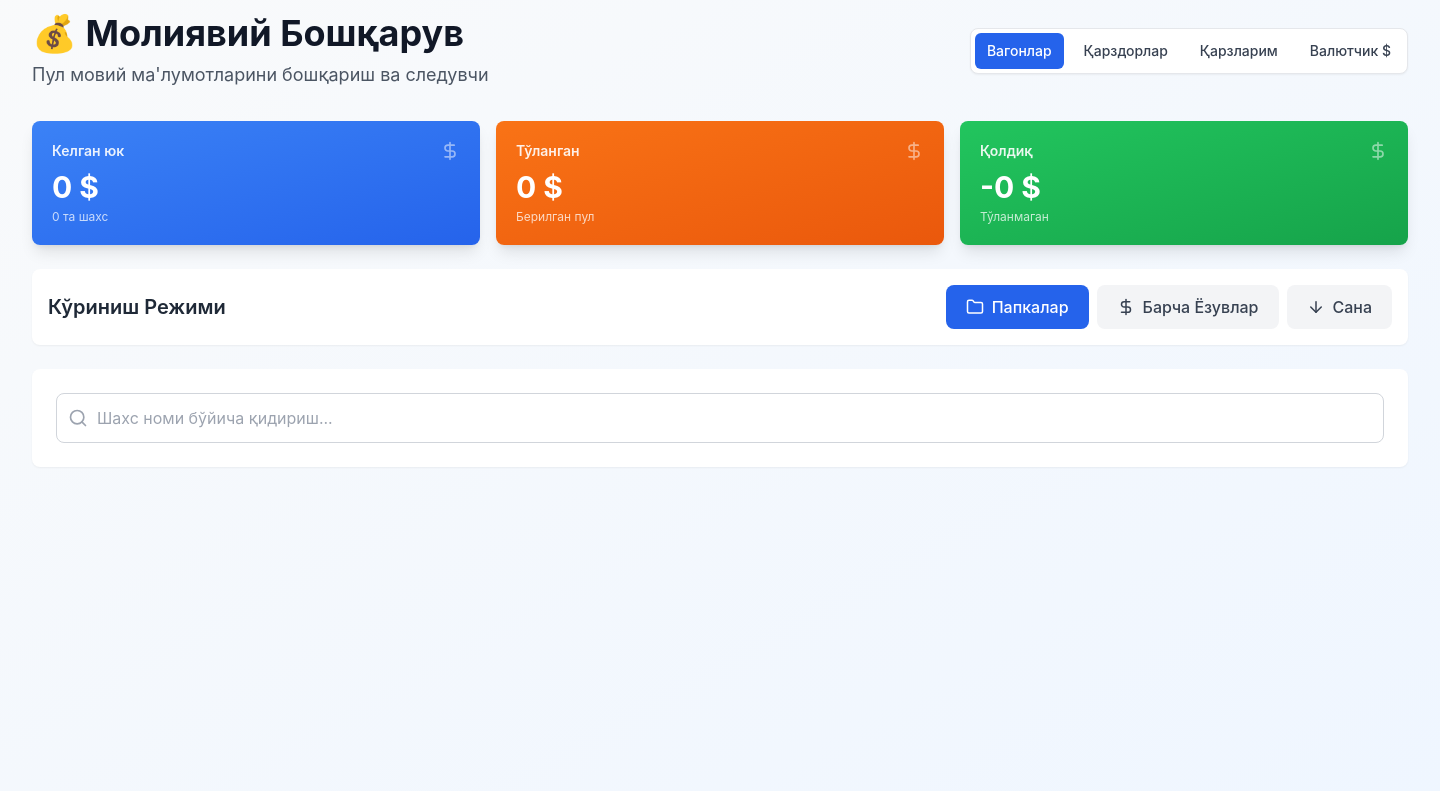
Test: Moliya page › Шухрат: adding a debt lets you pick took / gave
Later steps or results of the test are not shown.
Check: the button "Вагонлар" is shown, box [975,33,1064,69]
What coordinates should you click on to do the following:
click the button "Қарздорлар"
I would click on:
 (1126, 51)
Its box is [1072,33,1180,69].
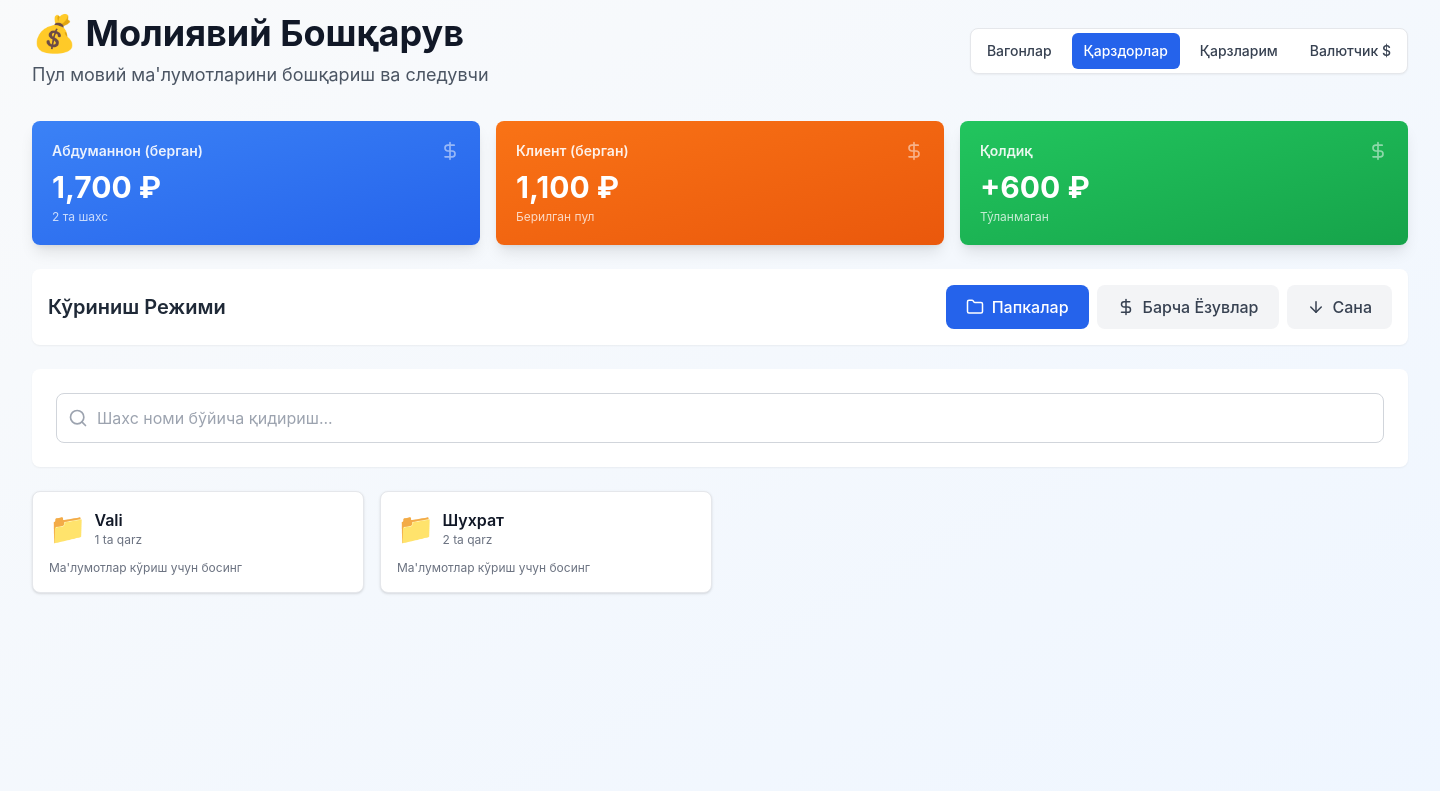
What coordinates should you click on to do the following:
click the heading "Шухрат"
I would click on:
 (473, 520)
Its box is [442,510,504,530].
(page scrolled)
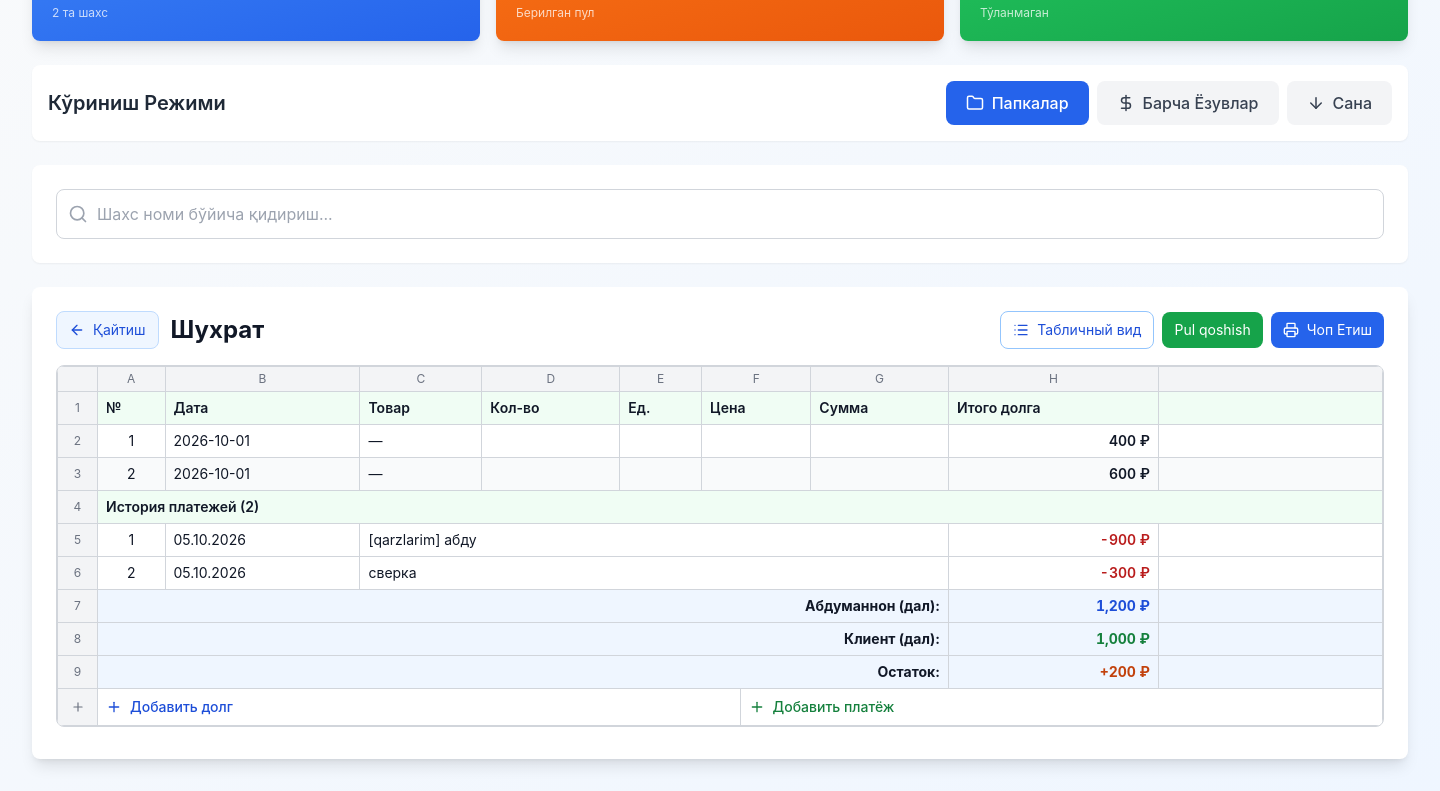
What coordinates should you click on to do the following:
click the button "Добавить долг"
I would click on:
 (181, 706)
Its box is [98,689,740,725].
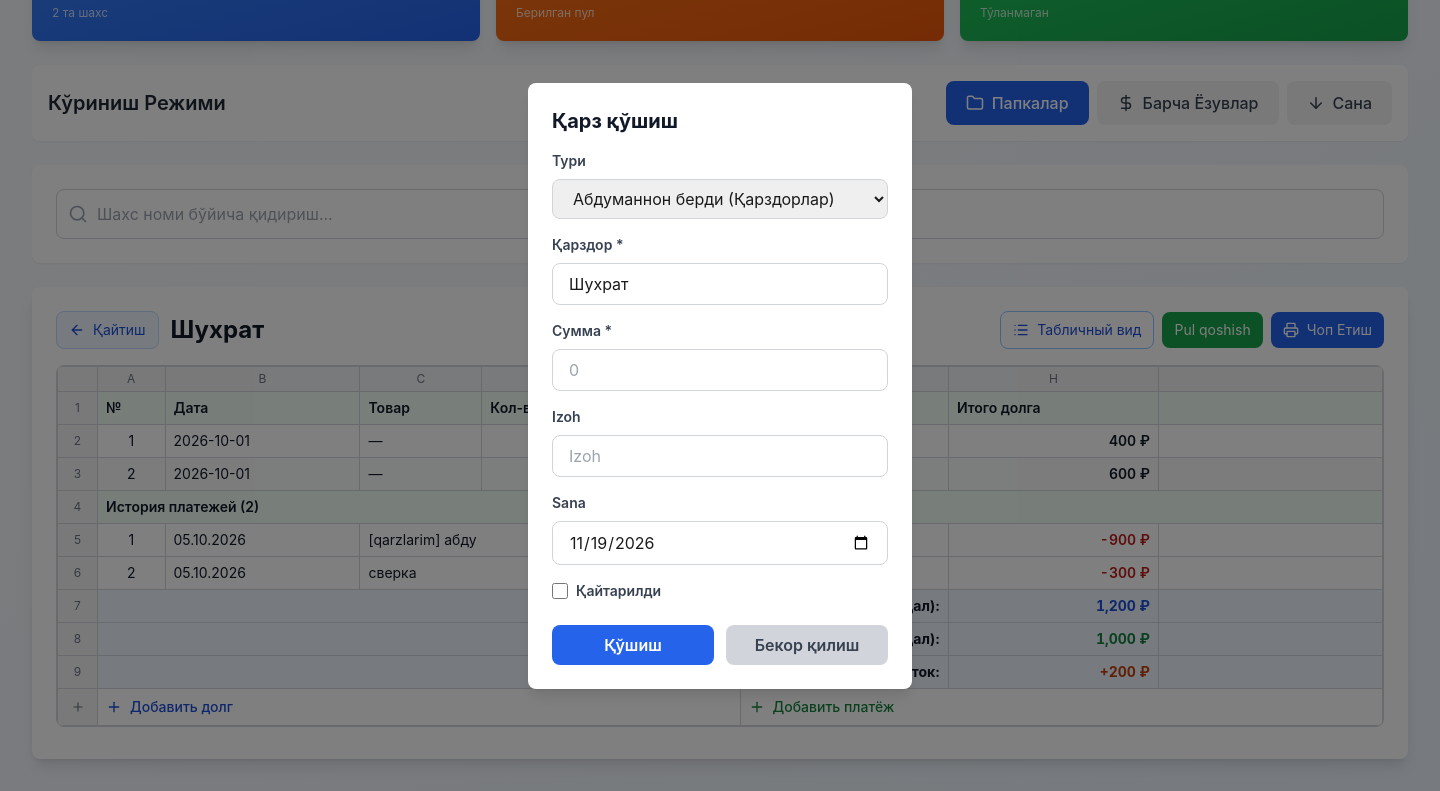
Check: the dropdown shows "Абдуманнон берди (Қарздорлар)", box [552,179,888,219]
